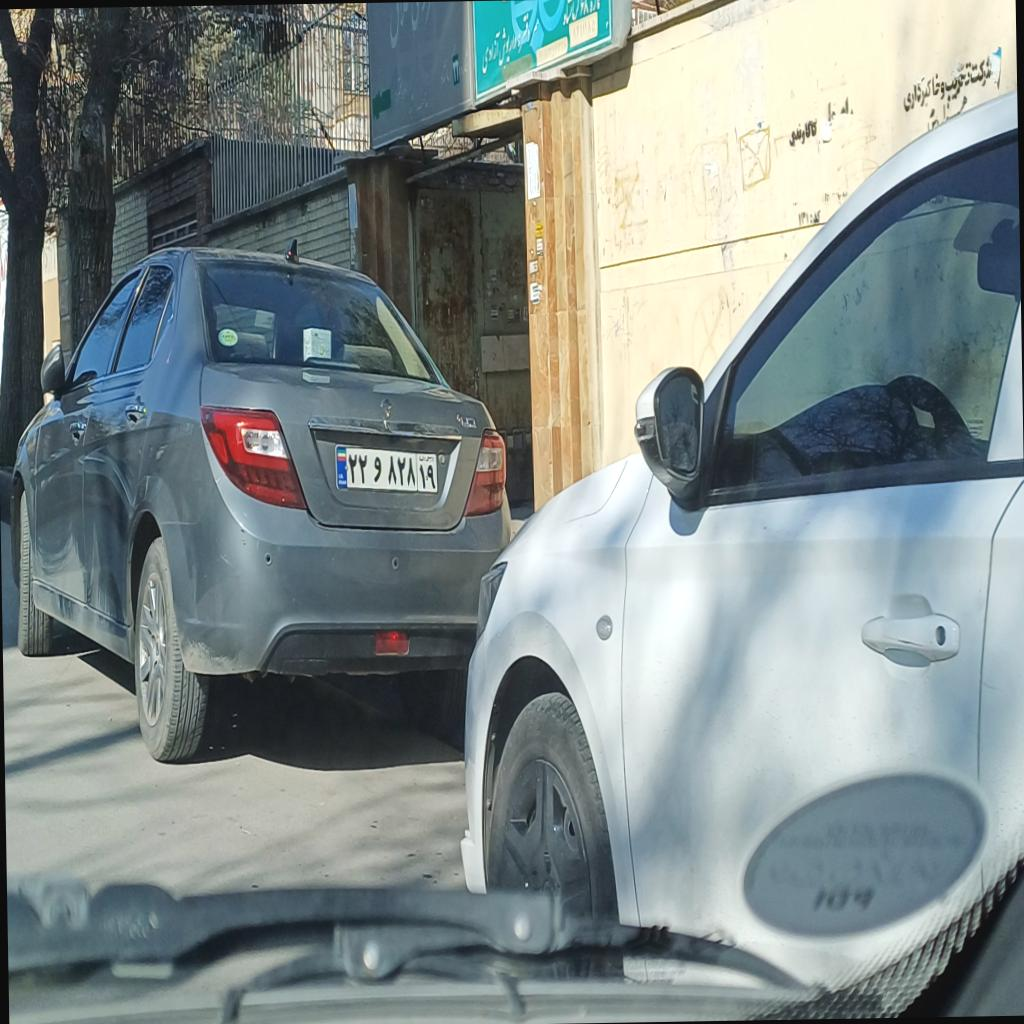Plates: (336, 444, 437, 493)
